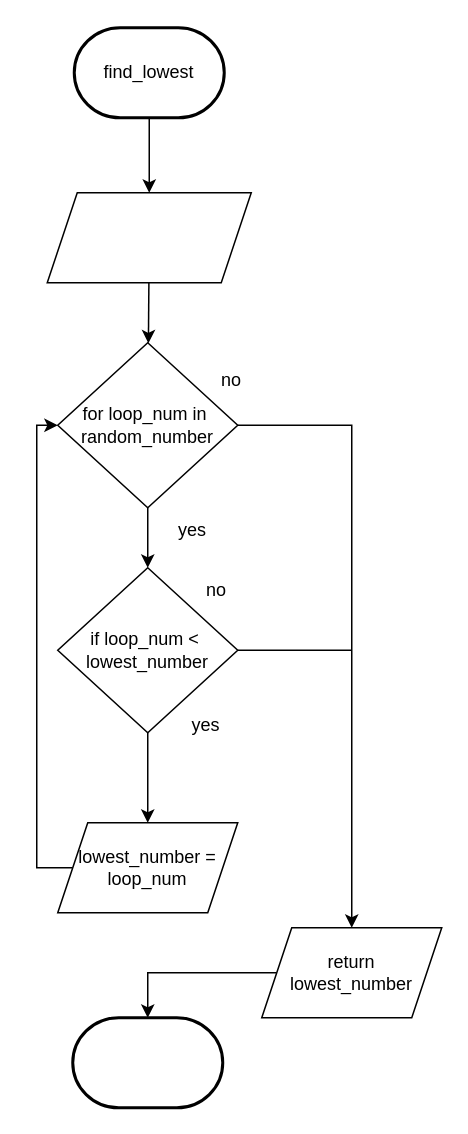
The diagram is 468 pixels wide and 1134 high, and some of its shapes have lost their labels. The shapes that lost their labels are listed below. From the top down, each one's centre as x and y in pixels, then its label:
the point at 148,237: Get random_number
the point at 147,1062: Stop
